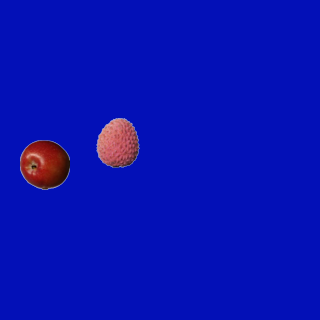Apple Braeburn: (19, 139, 69, 189)
Lychee: (92, 117, 142, 167)
